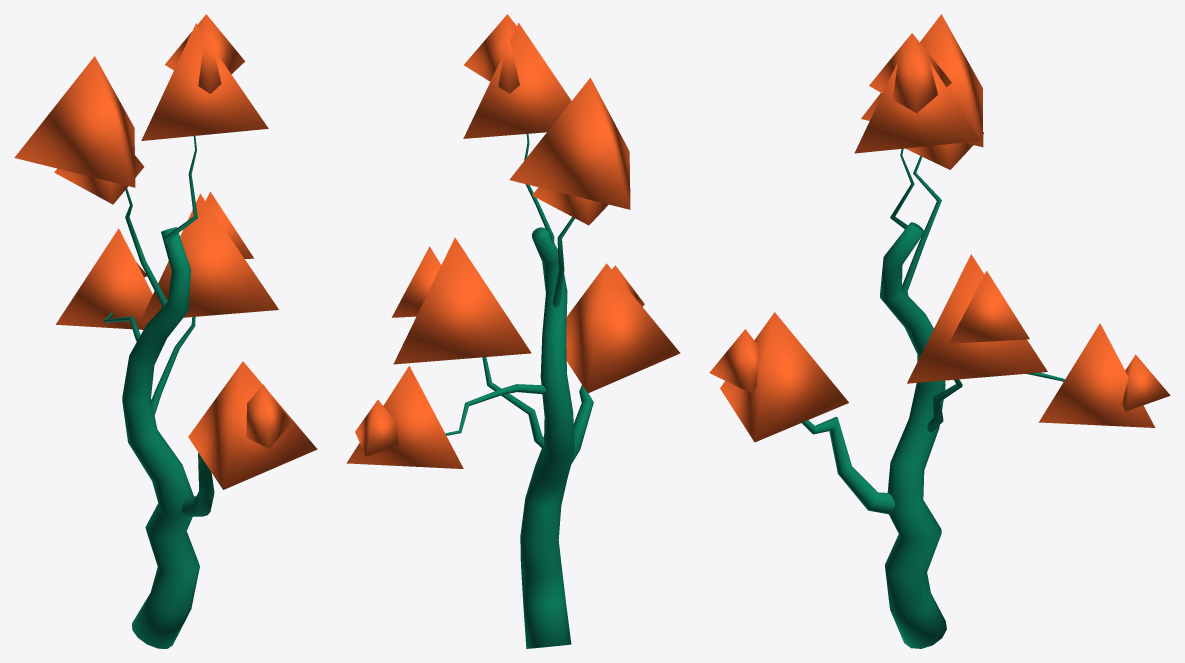
The model's file is DanasiaTree.fbx.
The picture shows the model from 3 angles, left to right: view 1: azimuth 30°, elevation 25°; view 2: azimuth 150°, elevation 25°; view 3: azimuth 270°, elevation 25°; orthographic projection.
Parts seen in each view (by area): view 1: merge1; view 2: merge1; view 3: merge1.
Part boxes in pixels (x1,y1,x2,y2): merge1: (14,14,317,648); merge1: (347,14,680,648); merge1: (709,14,1170,648).
Size of the model in its own units: 6.12 by 15.99 by 10.58.
